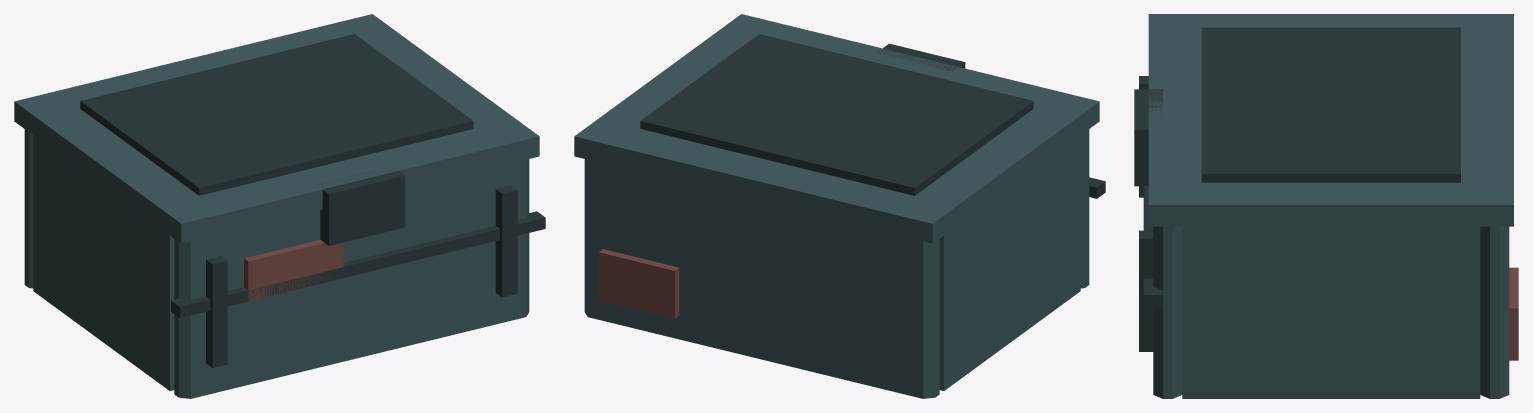
File: ancient_steel_slag_box_closed.obj
The picture shows the model from 3 angles, left to right: view 1: azimuth 30°, elevation 25°; view 2: azimuth 150°, elevation 25°; view 3: azimuth 270°, elevation 25°; orthographic projection. The views are drawn at different scales.
Parts seen in each view (by area): view 1: ancient_steel_slag_box_closed; view 2: ancient_steel_slag_box_closed; view 3: ancient_steel_slag_box_closed.
Boxes of the visible parts, left/top/right/bottom form: ancient_steel_slag_box_closed: left=14, top=14, right=545, bottom=398; ancient_steel_slag_box_closed: left=574, top=14, right=1105, bottom=398; ancient_steel_slag_box_closed: left=1134, top=14, right=1518, bottom=398.
Size of the model in its own units: 0.96 by 0.47 by 0.8.
